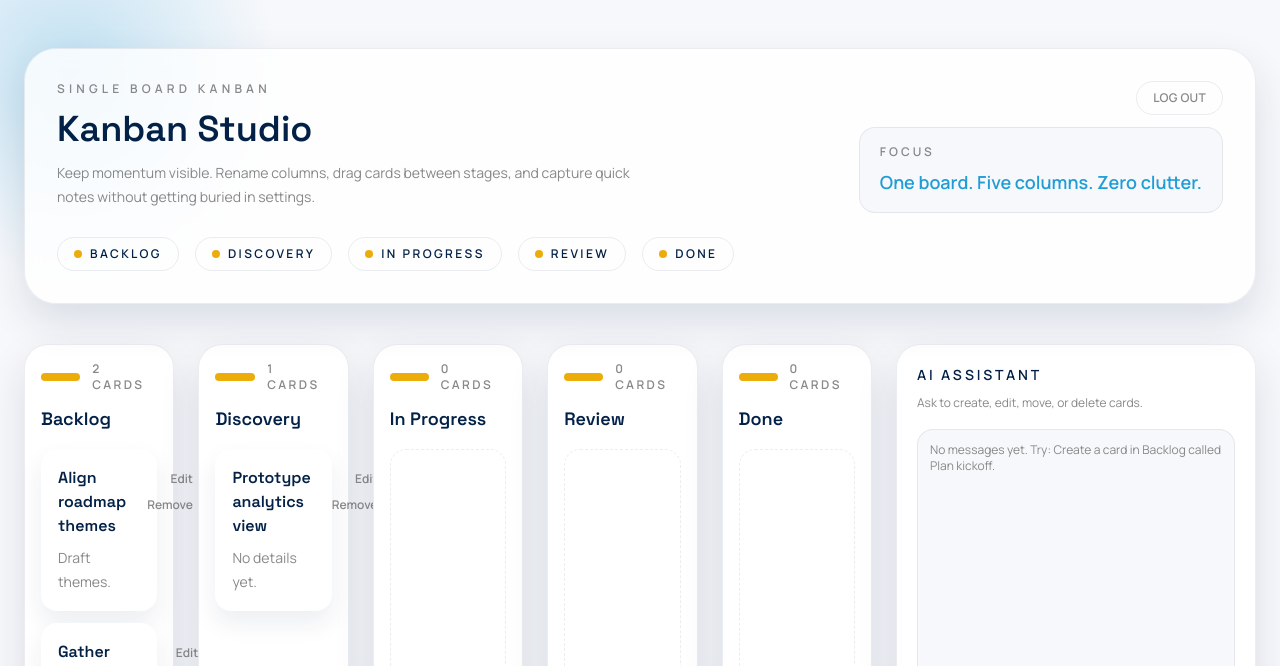
Test: column rename › restores the old title and makes no request when the title is blank
Clear the 1st field named "Column title" at [99, 419], box [41,405,157,433]
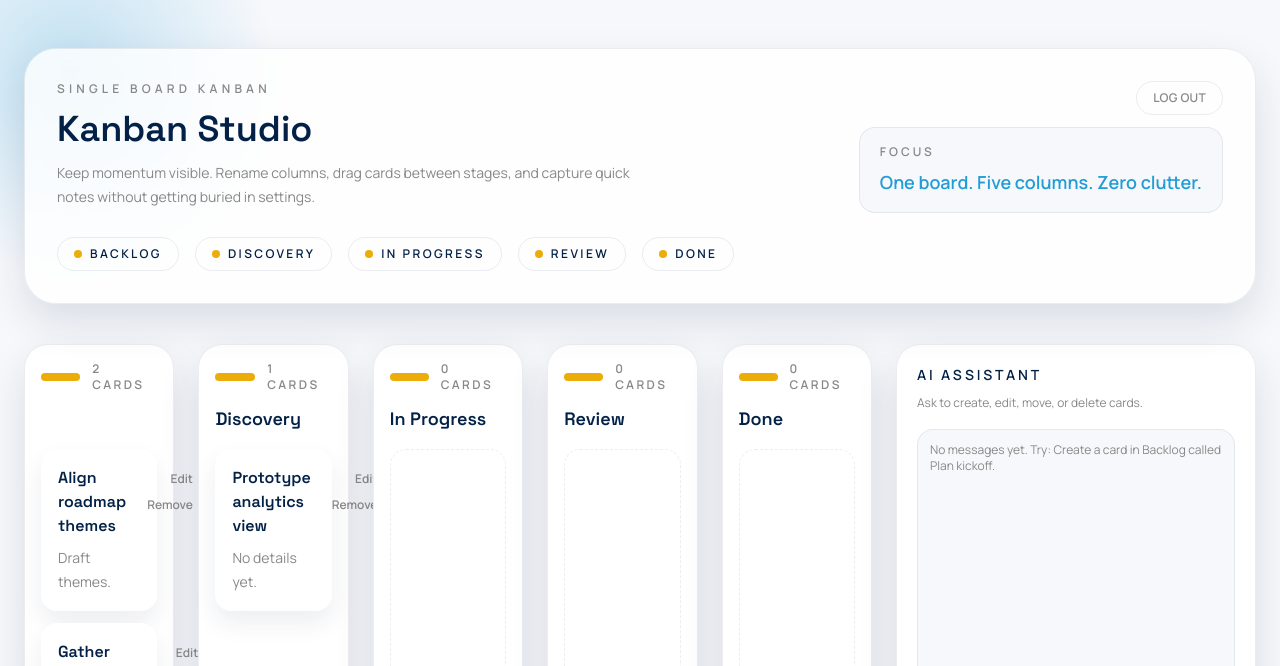
Press Tab
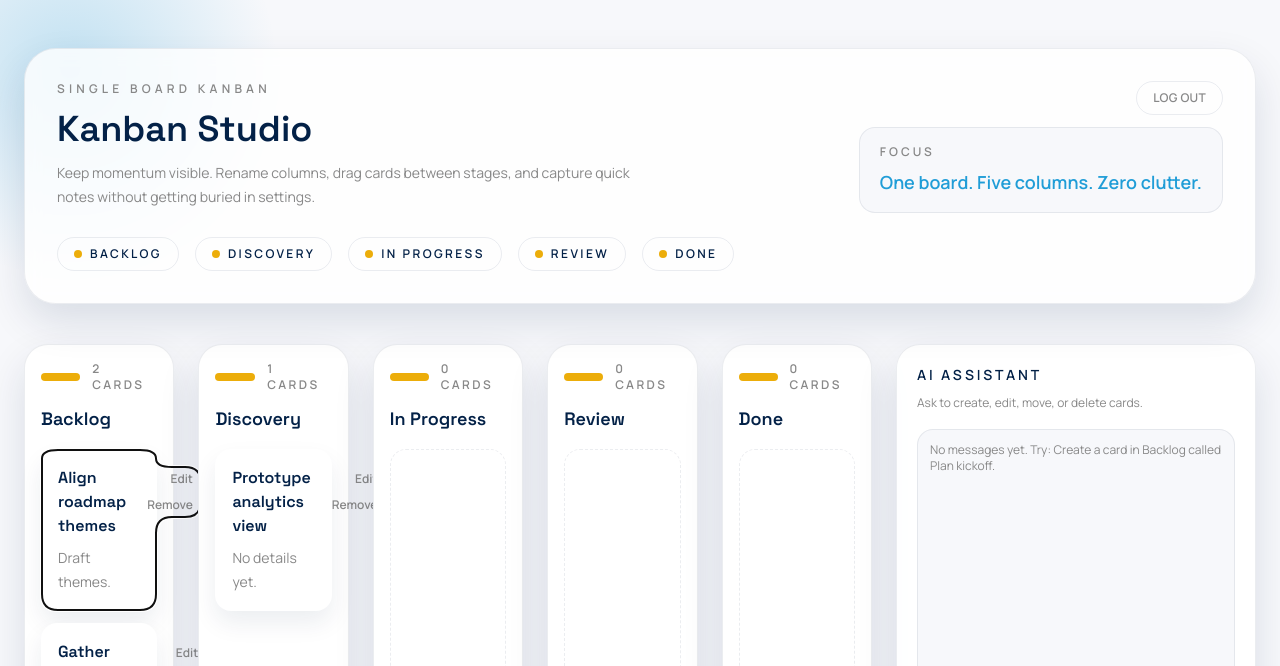
Now the 1st field named "Column title" holds "Backlog", box [41,405,157,433]
